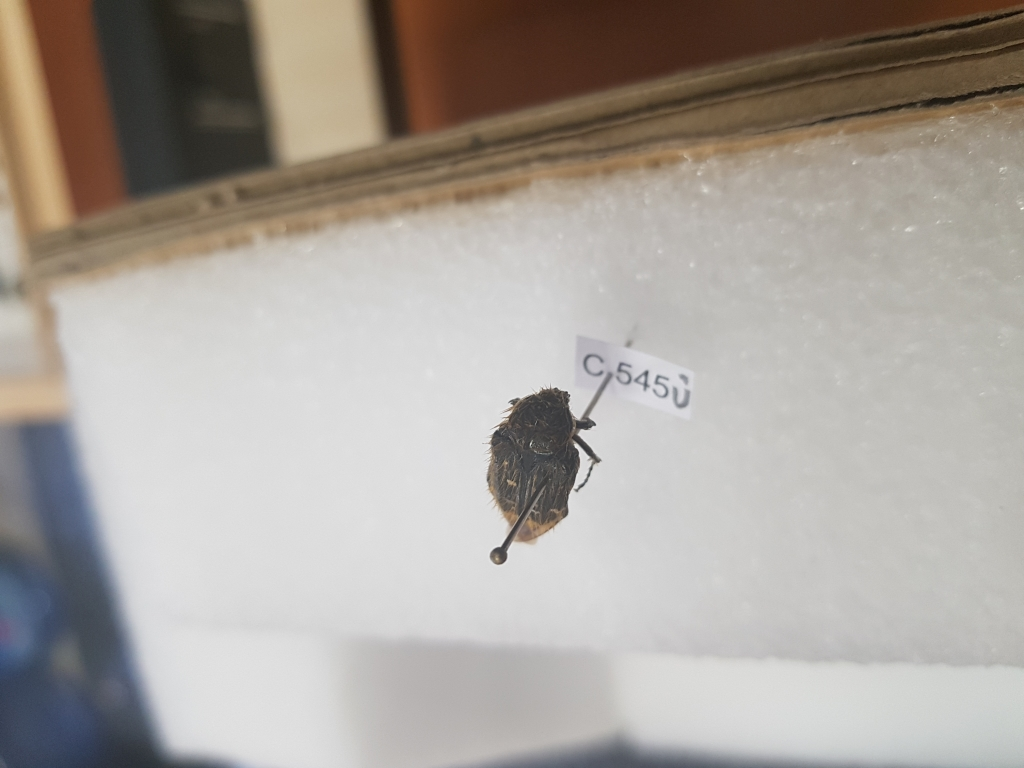Tropinota_hirta: (483, 371, 591, 548)
